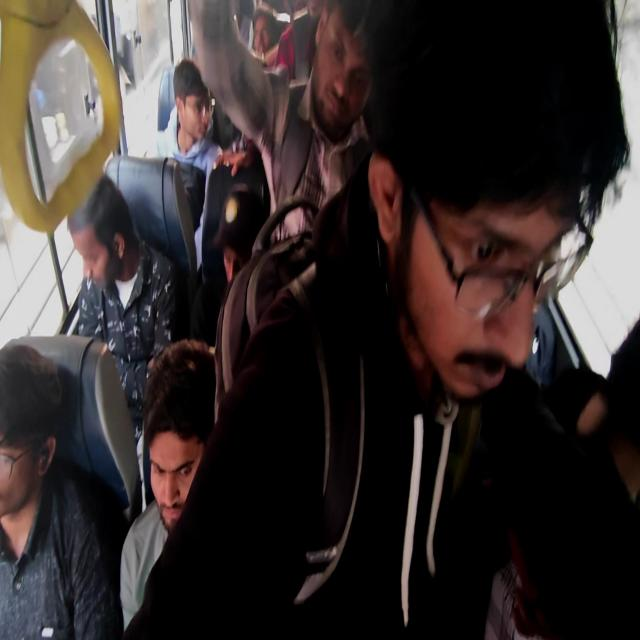person: (364, 0, 620, 419), (474, 343, 639, 635), (189, 1, 372, 251), (140, 340, 215, 534), (0, 348, 63, 526), (313, 0, 382, 134), (157, 57, 221, 188), (66, 174, 132, 298), (118, 492, 169, 631), (213, 184, 264, 284), (189, 274, 222, 350), (325, 0, 375, 45), (173, 56, 210, 108), (251, 5, 281, 60), (274, 18, 298, 80), (232, 0, 256, 48), (305, 21, 318, 72), (283, 0, 310, 19), (305, 0, 325, 18), (256, 1, 277, 18), (90, 15, 98, 31)
